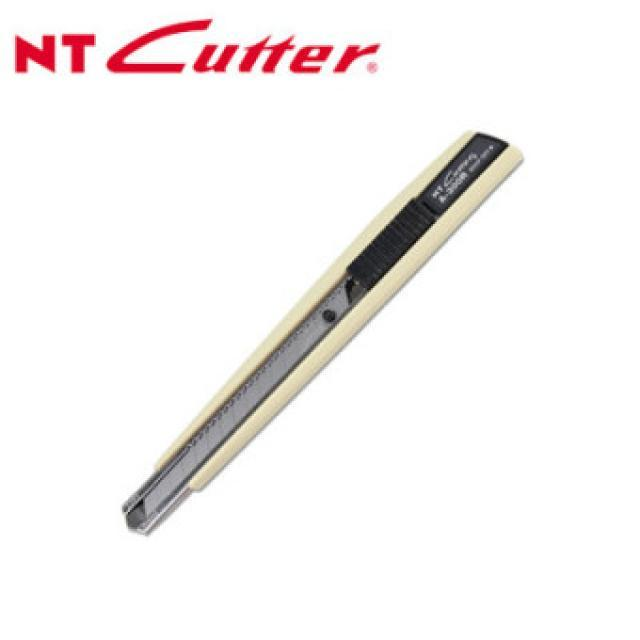cutter: (122, 132, 526, 532)
